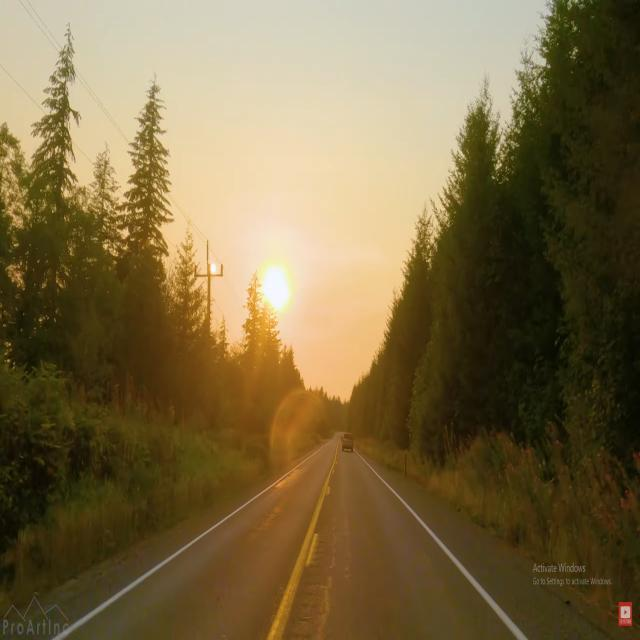sun: (258, 254, 300, 325)
